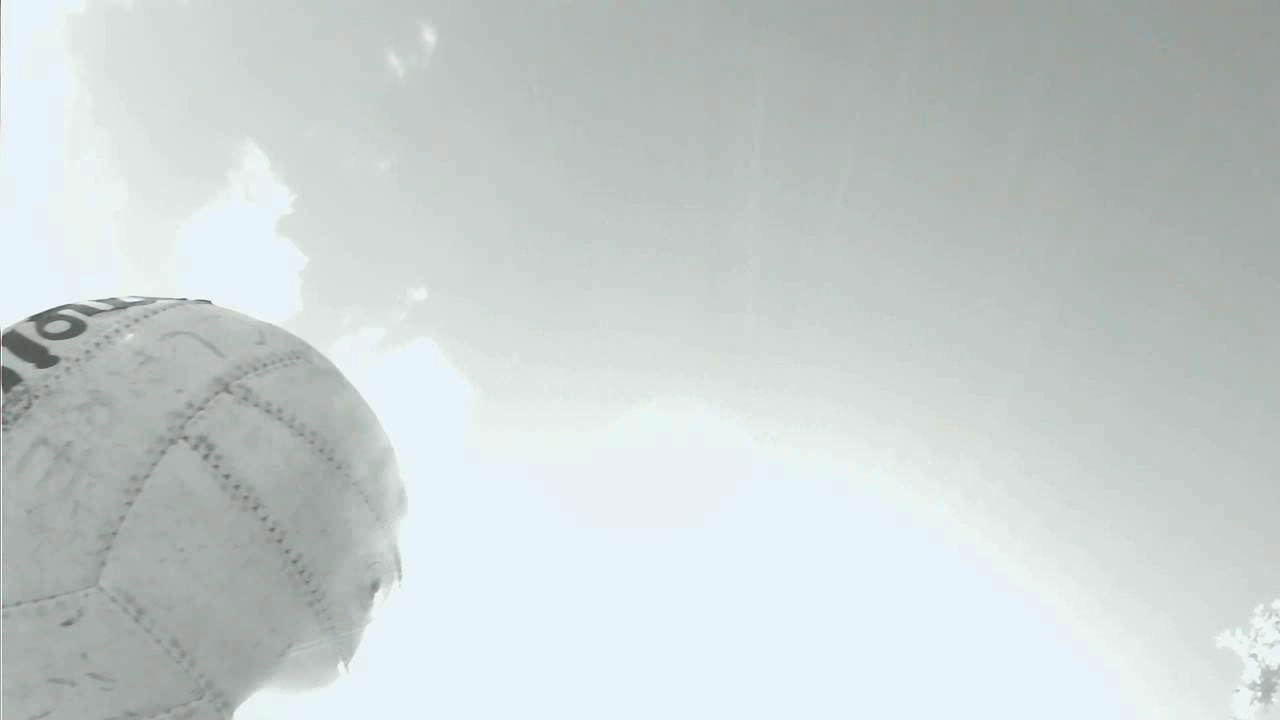Football-Spotter: (3, 294, 404, 720)
